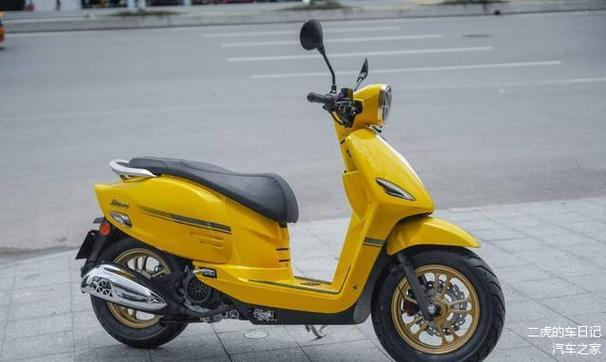摩托车: (69, 78, 521, 362)
